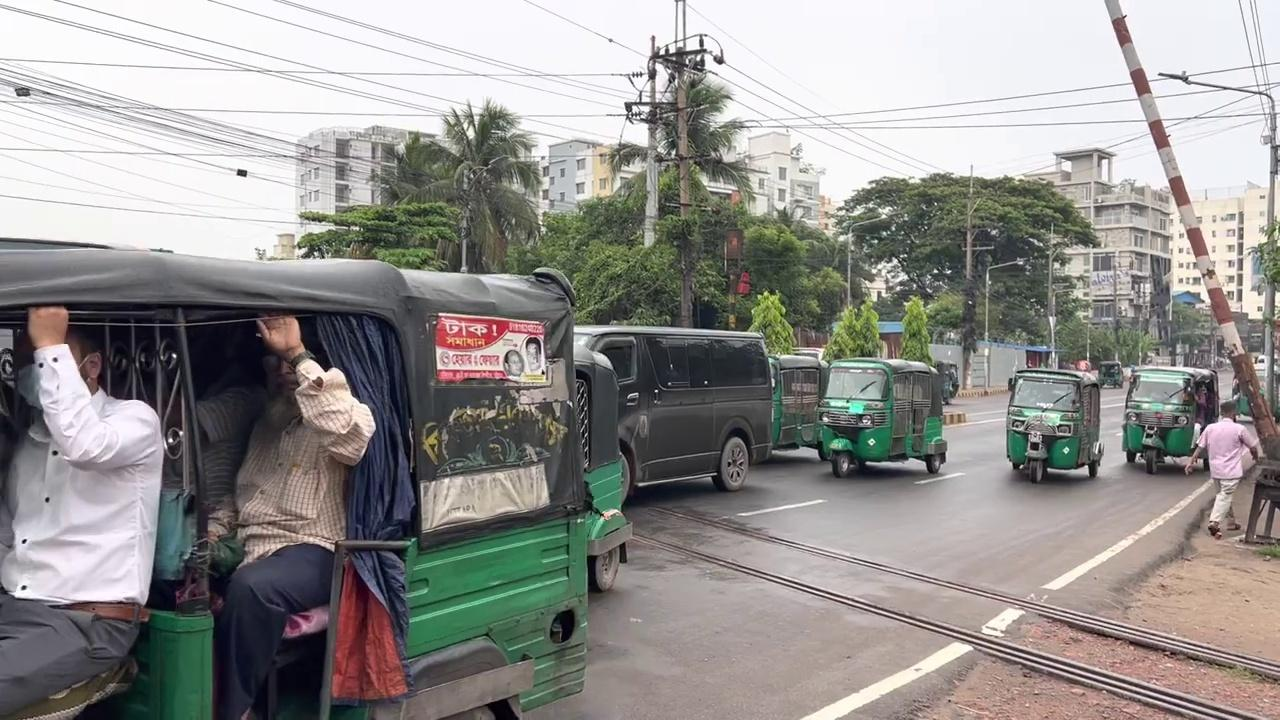Fence: (191, 311, 376, 719), (0, 304, 165, 718), (1184, 400, 1261, 538)
Garbage: (1104, 0, 1279, 455)
Motorcycle: (661, 541, 1275, 720)
Railroad-crossing: (834, 169, 1101, 377), (370, 95, 544, 272), (821, 299, 881, 361), (746, 288, 796, 355), (898, 294, 934, 366)
Rickshaw: (1, 237, 632, 717)
